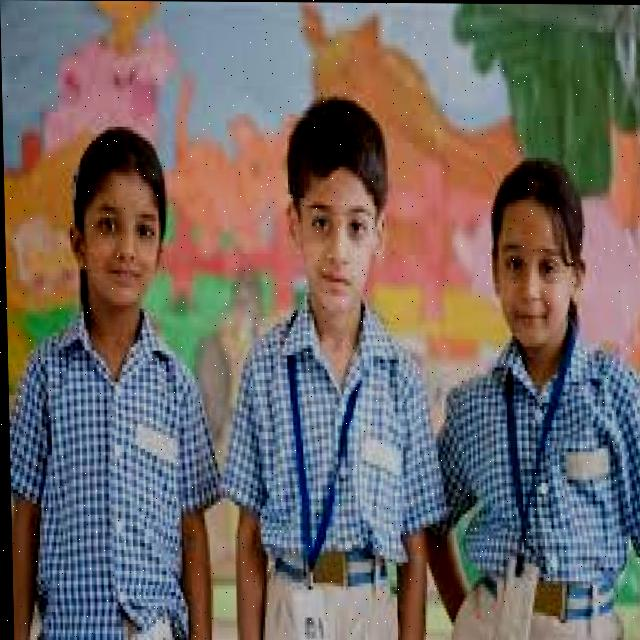id_card: (268, 325, 353, 637), (489, 351, 564, 615)
